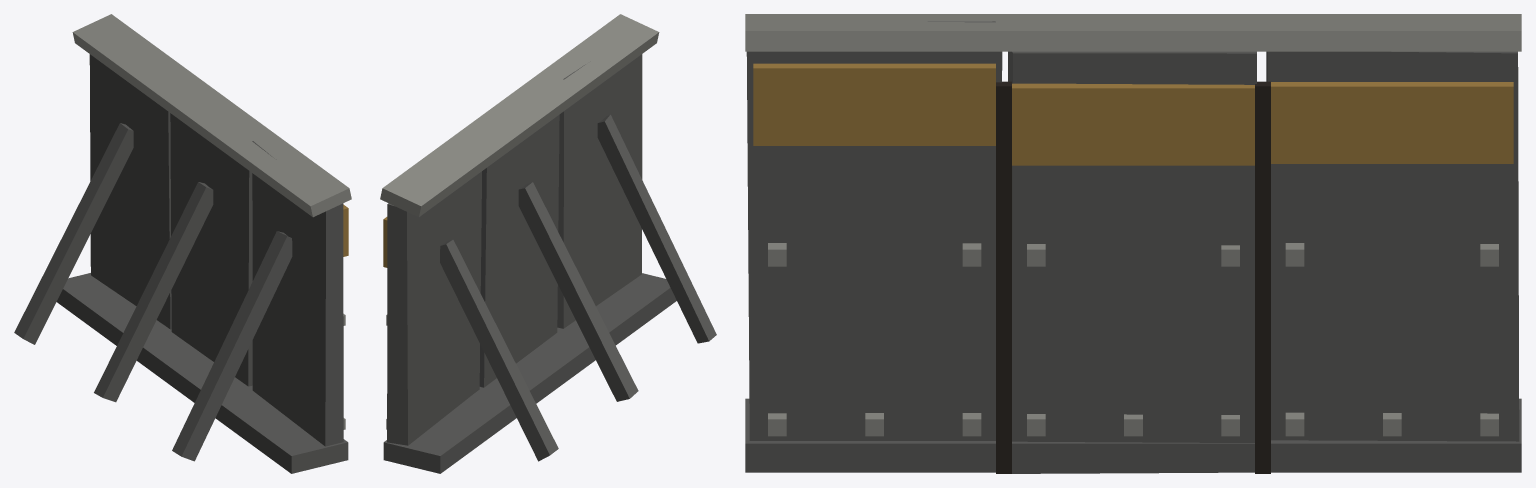
The model's file is arm_plates.glb.
3 views of the same model, side by side, from view 1: azimuth 30°, elevation 25°; view 2: azimuth 150°, elevation 25°; view 3: azimuth 270°, elevation 25° (orthographic). The views are drawn at different scales.
Visible parts, largest first — view 1: arm_plates; view 2: arm_plates; view 3: arm_plates.
Boxes of the visible parts, <box> form: arm_plates: <box>14,14,351,473</box>; arm_plates: <box>380,14,716,473</box>; arm_plates: <box>745,14,1521,473</box>.
Bounding box in the file's own units: 0.4799 × 0.9219 × 1.45.
